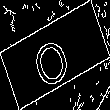O_NW: (32, 23, 78, 87)
